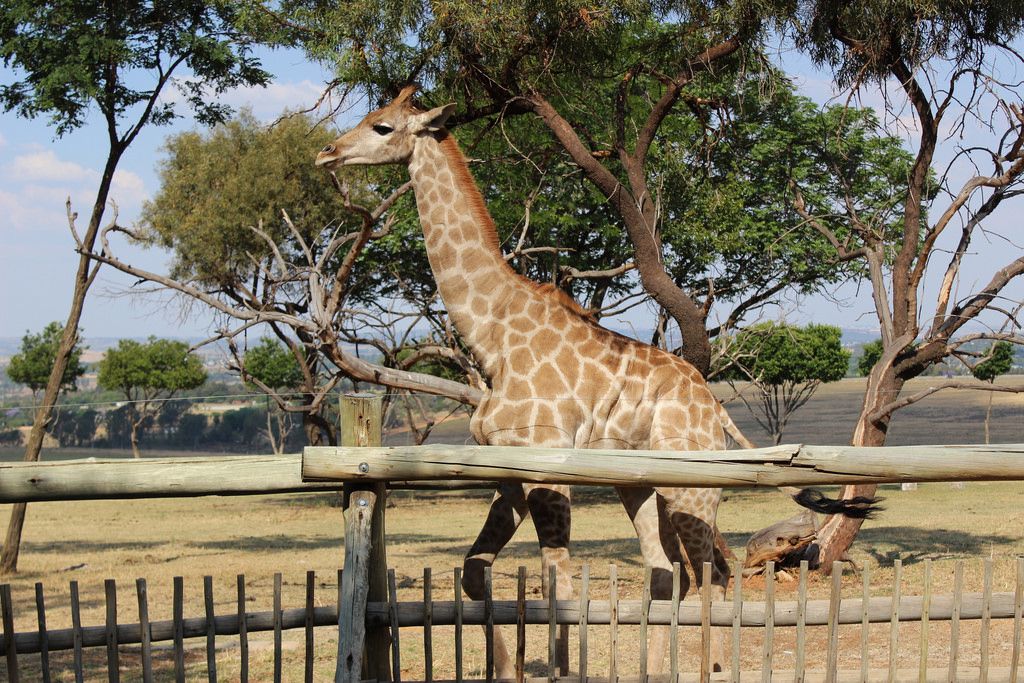giraffe: (306, 75, 841, 606)
